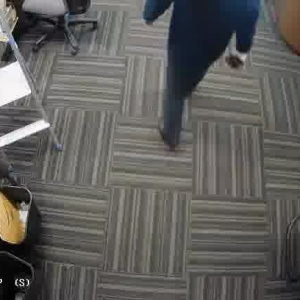person: (153, 0, 261, 144)
